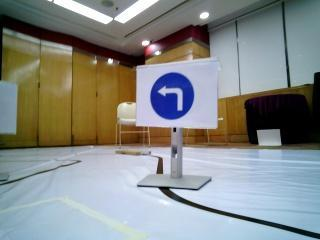left: (138, 68, 212, 125)
